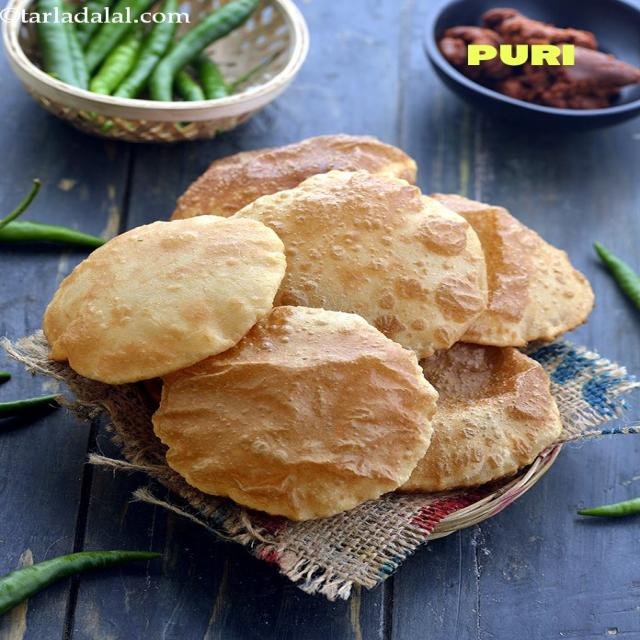poori: (147, 299, 438, 529), (237, 164, 496, 380), (30, 209, 283, 393), (444, 181, 588, 354)
